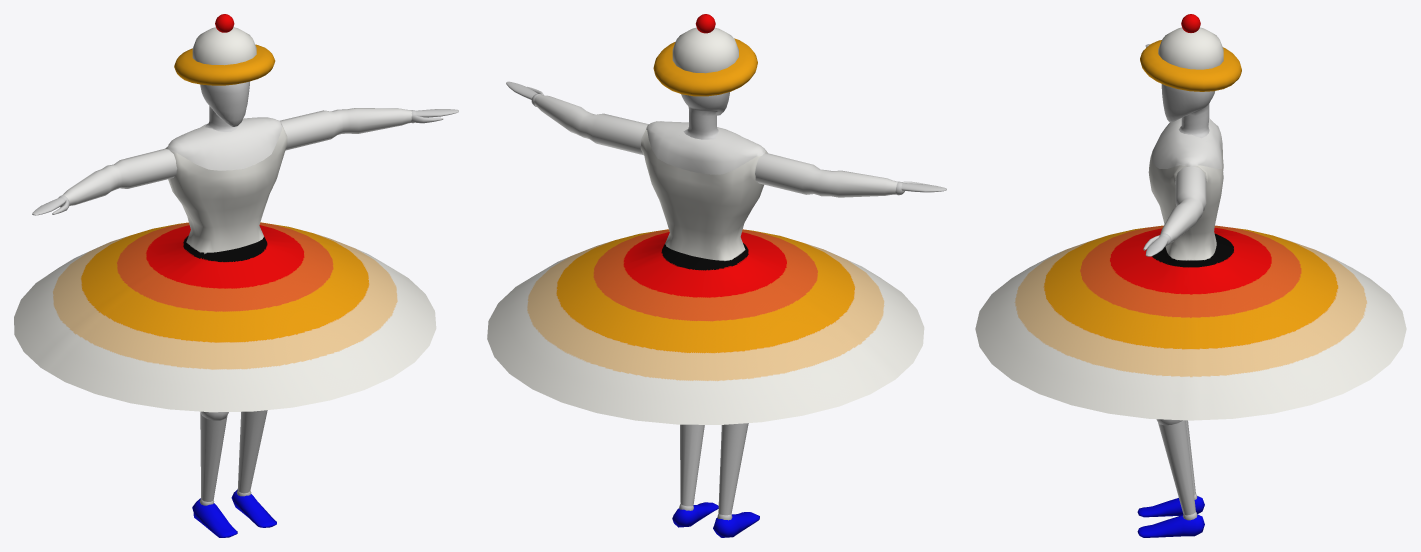
File: CustomBG.gltf
The picture shows the model from 3 angles, left to right: view 1: azimuth 30°, elevation 25°; view 2: azimuth 150°, elevation 25°; view 3: azimuth 270°, elevation 25°; orthographic projection. The views are drawn at different scales.
Parts seen in each view (by area): view 1: CustomBG_1Dress, CustomBG_1Sleeves, BodyBG, CustomBG_1Hat, CustomBG_1Shoes; view 2: CustomBG_1Dress, CustomBG_1Sleeves, BodyBG, CustomBG_1Hat, CustomBG_1Shoes; view 3: CustomBG_1Dress, CustomBG_1Hat, CustomBG_1Sleeves, BodyBG, CustomBG_1Shoes.
Part boxes in pixels (bbox=[...]): CustomBG_1Dress: bbox=[14, 126, 436, 412]; CustomBG_1Sleeves: bbox=[62, 108, 411, 205]; BodyBG: bbox=[32, 81, 458, 505]; CustomBG_1Hat: bbox=[174, 14, 275, 85]; CustomBG_1Shoes: bbox=[192, 489, 276, 537]; CustomBG_1Dress: bbox=[487, 129, 924, 424]; CustomBG_1Sleeves: bbox=[534, 94, 897, 197]; BodyBG: bbox=[506, 81, 946, 520]; CustomBG_1Hat: bbox=[653, 14, 757, 96]; CustomBG_1Shoes: bbox=[672, 502, 759, 537]; CustomBG_1Dress: bbox=[975, 148, 1406, 420]; CustomBG_1Hat: bbox=[1140, 14, 1241, 91]; CustomBG_1Sleeves: bbox=[1152, 118, 1222, 242]; BodyBG: bbox=[1143, 44, 1214, 520]; CustomBG_1Shoes: bbox=[1137, 496, 1204, 537].
Bounding box in the file's own units: 4.34 × 4.86 × 3.73.
Materials: 1 (1 with a texture image).
